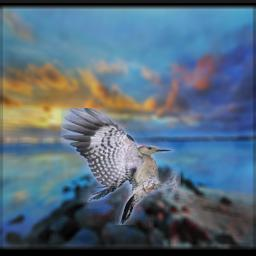Woodpecker: (61, 108, 181, 225)
